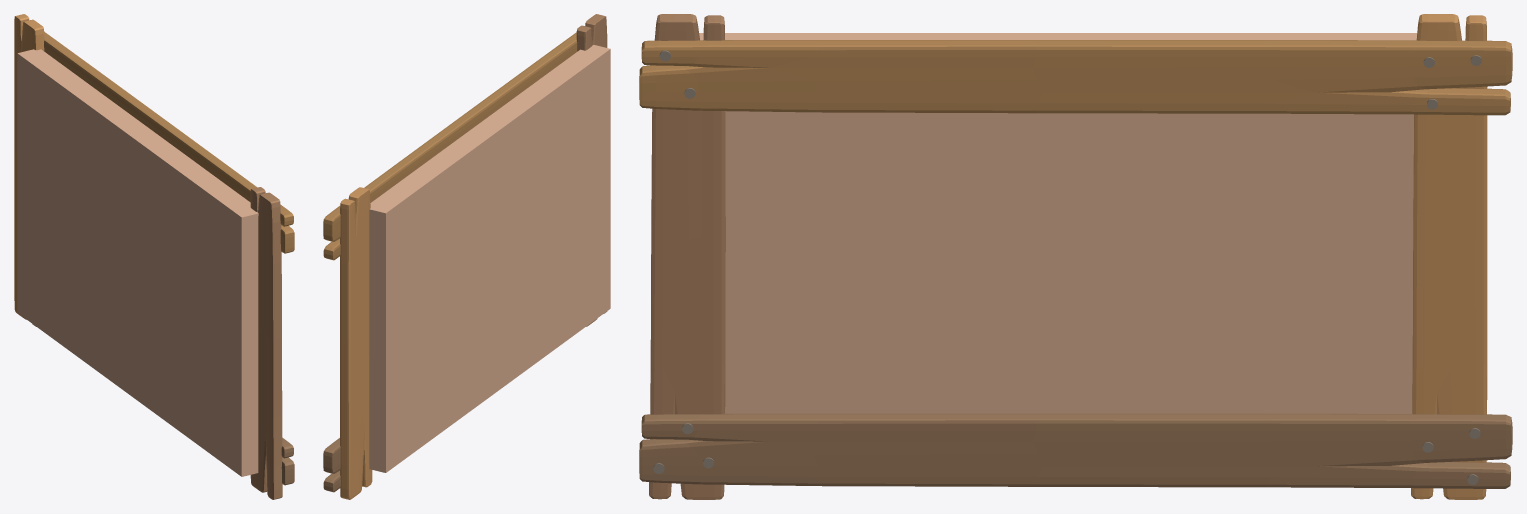
The model's file is scoreboard.fbx.
3 views of the same model, side by side, from view 1: azimuth 30°, elevation 25°; view 2: azimuth 150°, elevation 25°; view 3: azimuth 270°, elevation 25° (orthographic). The views are drawn at different scales.
Parts seen in each view (by area): view 1: Cube.006, Cube.007, Cube.009, Cube.008, Cube.010; view 2: Cube.006, Cube.008, Cube.009, Cube.007, Cube.010; view 3: Cube.006, Cube.010, Cube.009, Cube.007, Cube.008.
Boxes of the visible parts, x1,y1,x2,y2 form: Cube.006: (17, 49, 258, 476); Cube.007: (250, 187, 282, 499); Cube.009: (44, 32, 294, 253); Cube.008: (14, 14, 44, 326); Cube.010: (281, 437, 294, 485); Cube.006: (369, 45, 610, 472); Cube.008: (340, 187, 372, 499); Cube.009: (323, 32, 577, 260); Cube.007: (576, 14, 607, 326); Cube.010: (323, 438, 340, 492); Cube.006: (699, 33, 1417, 413); Cube.010: (639, 413, 1512, 488); Cube.009: (639, 40, 1512, 115); Cube.007: (649, 14, 725, 499); Cube.008: (1411, 14, 1487, 499).
Size of the model in its own units: 39.18 by 311 by 514.
Materials: 2 (2 with a texture image).
